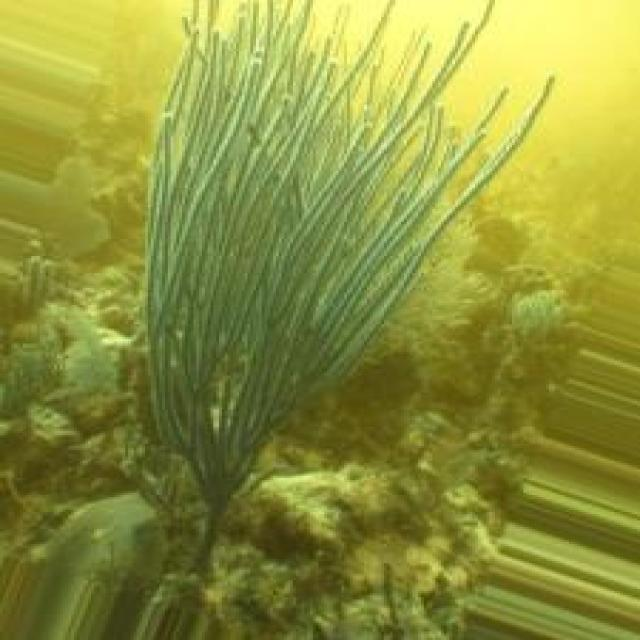Bleached: (146, 1, 556, 579)
